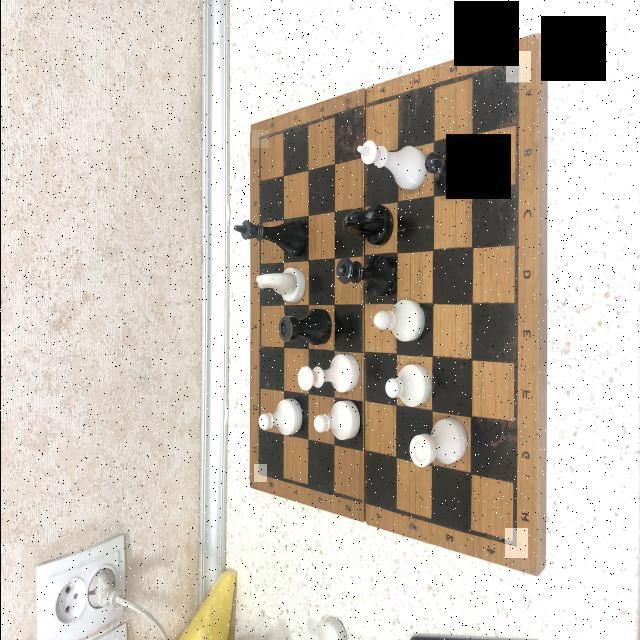chess-table-corners: (505, 52, 530, 84), (504, 528, 527, 558), (251, 130, 268, 148), (253, 464, 266, 482)
